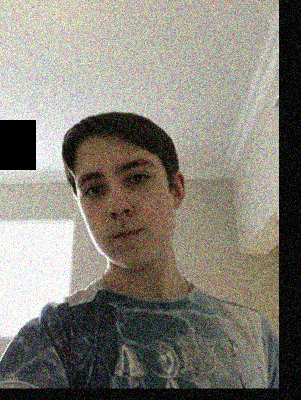without_mask: (74, 159, 175, 270)
